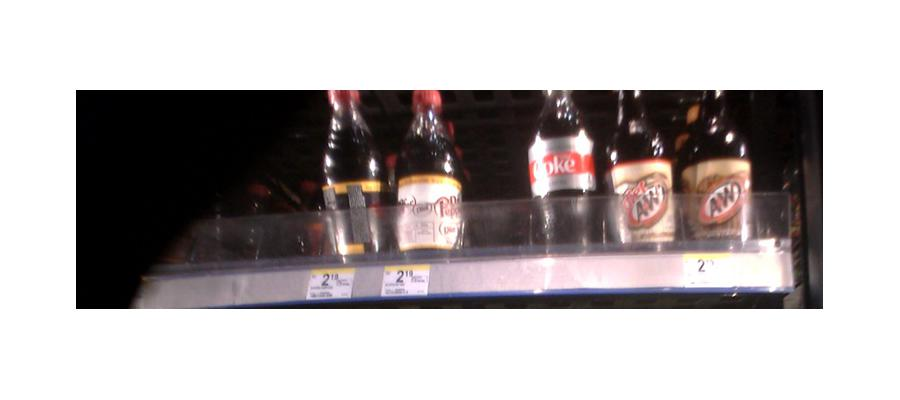bottle: (392, 87, 461, 265), (322, 87, 388, 260), (530, 85, 598, 251), (679, 91, 749, 247), (609, 91, 676, 247)
